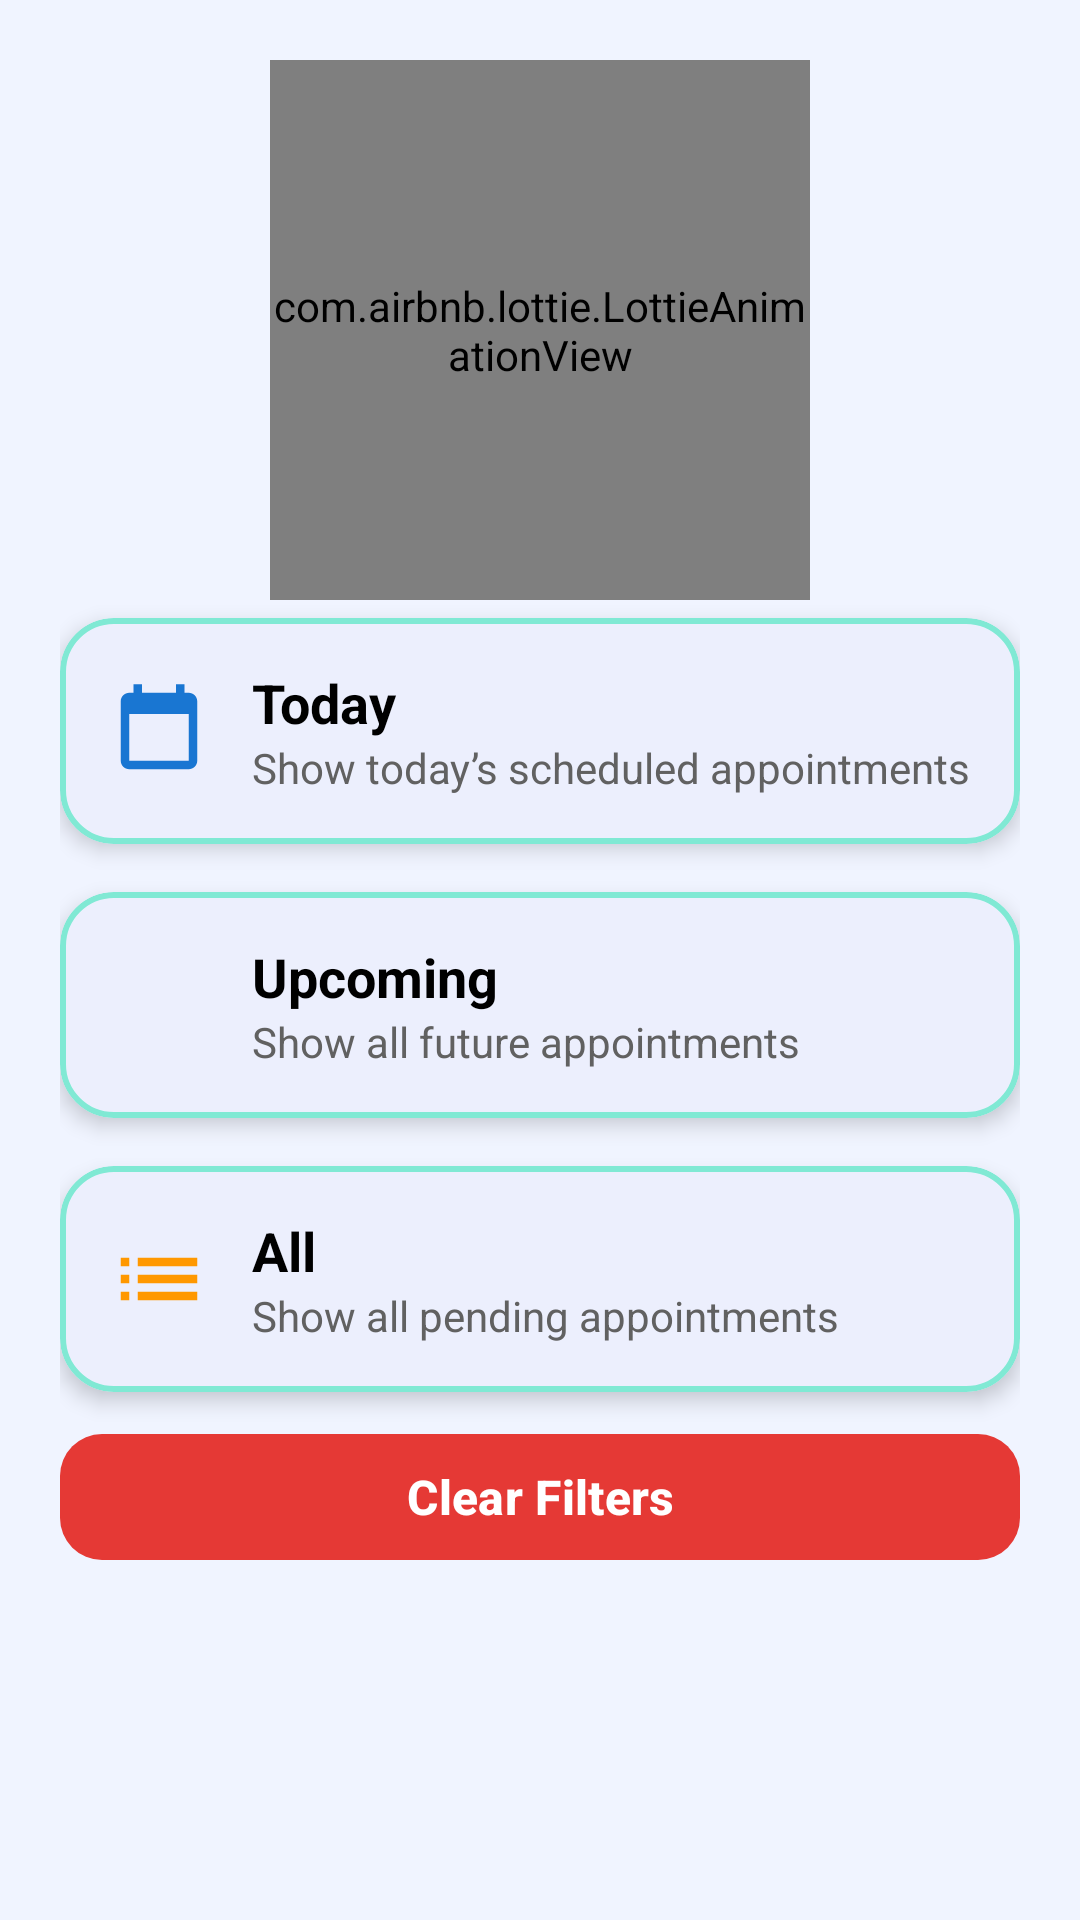

Icon click points for this 1080px×1920px phone screenshot, format point (x, y):
list: point (159, 1279)
